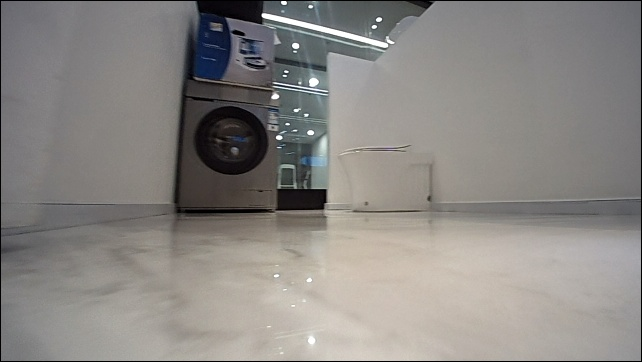toilet: (339, 143, 435, 214)
washing_machine: (174, 81, 285, 211)
